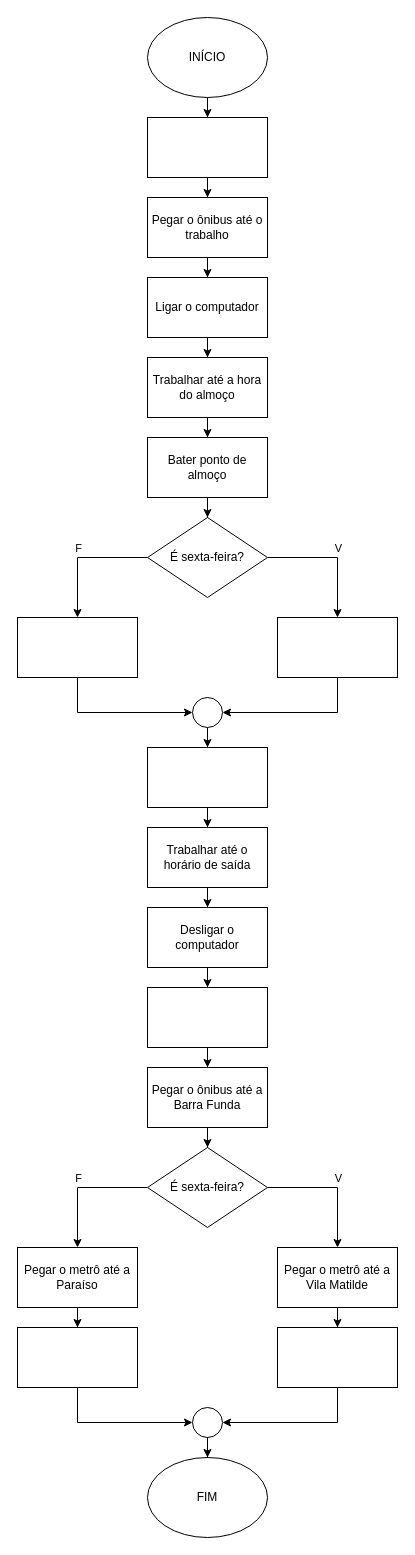
The diagram is 415 pixels wide and 1555 high, and some of its shapes have lost their labels. Here are the shapes that lost their labels. From the top down, the box of each, then its label:
(146, 116, 268, 178): Pegar o metrô até a Barra Funda
(16, 616, 138, 678): Almoçar marmita
(276, 616, 398, 678): Almoçar pastel
(146, 746, 268, 808): Bater ponto de volta do almoço
(146, 986, 268, 1048): Bater o ponto de saída
(16, 1326, 138, 1388): Andar até a faculdade
(276, 1326, 398, 1388): Andar até em casa
